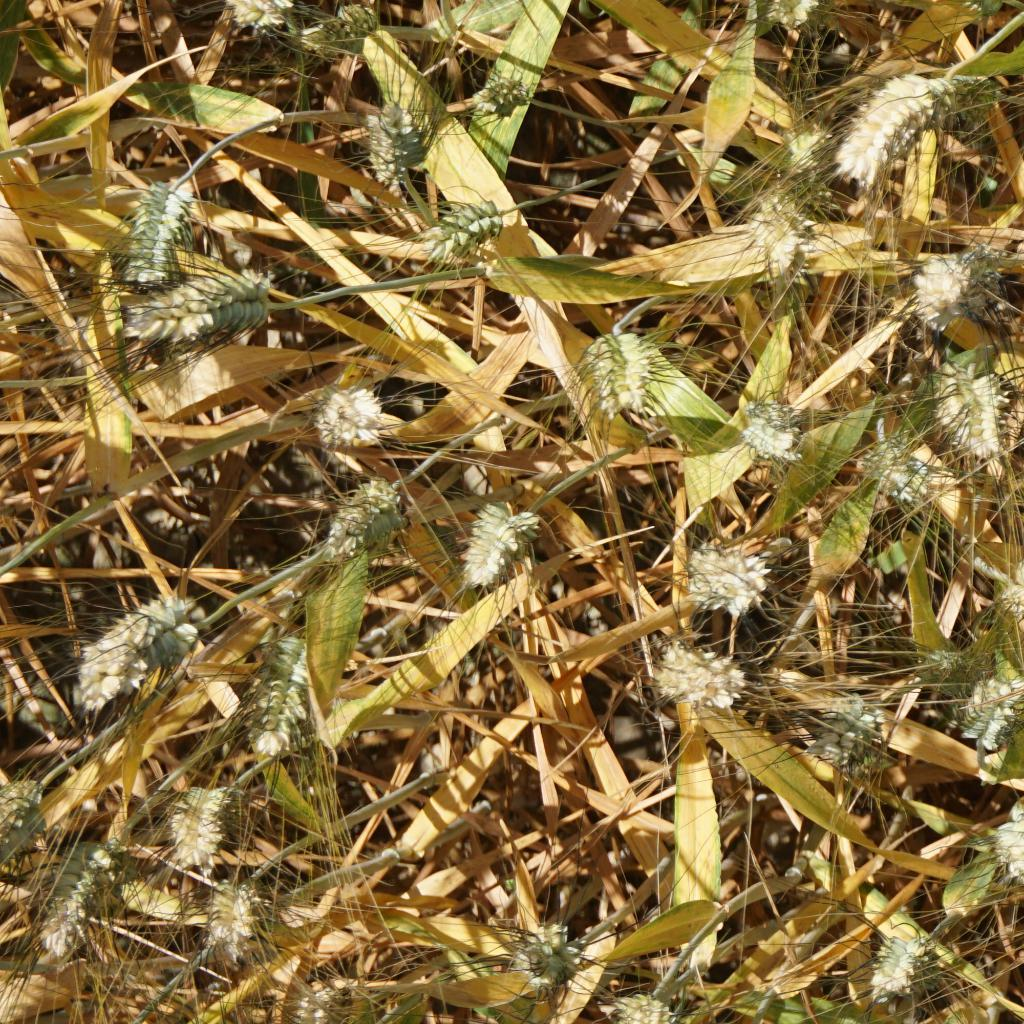0-0: (844, 62, 948, 155), (572, 323, 671, 420), (126, 275, 272, 339), (86, 600, 173, 699), (244, 636, 312, 760), (934, 364, 1007, 466), (44, 841, 99, 958), (656, 638, 742, 712), (356, 92, 425, 182), (200, 867, 264, 964), (324, 476, 405, 548), (129, 180, 188, 275), (311, 382, 388, 453), (745, 188, 809, 271), (166, 772, 226, 860), (451, 508, 531, 572), (426, 193, 503, 256), (951, 675, 1020, 745), (810, 687, 874, 762), (928, 52, 995, 123), (732, 392, 800, 460), (694, 537, 759, 608), (301, 0, 378, 56), (512, 921, 583, 981), (870, 930, 928, 999), (779, 113, 837, 180), (901, 252, 956, 321), (948, 231, 998, 304), (866, 432, 921, 493), (460, 71, 533, 112), (0, 771, 41, 841), (294, 972, 349, 1024), (226, 0, 298, 28), (995, 804, 1024, 868), (746, 0, 824, 21), (1009, 554, 1024, 630)
